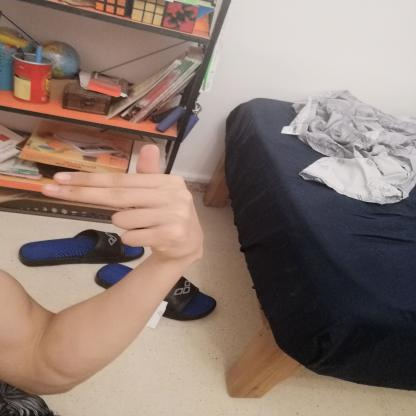GHAYN: (32, 138, 215, 264)
